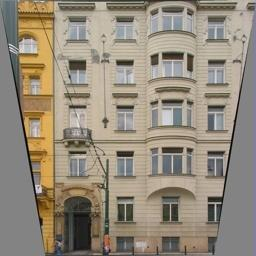building: (52, 0, 239, 256)
